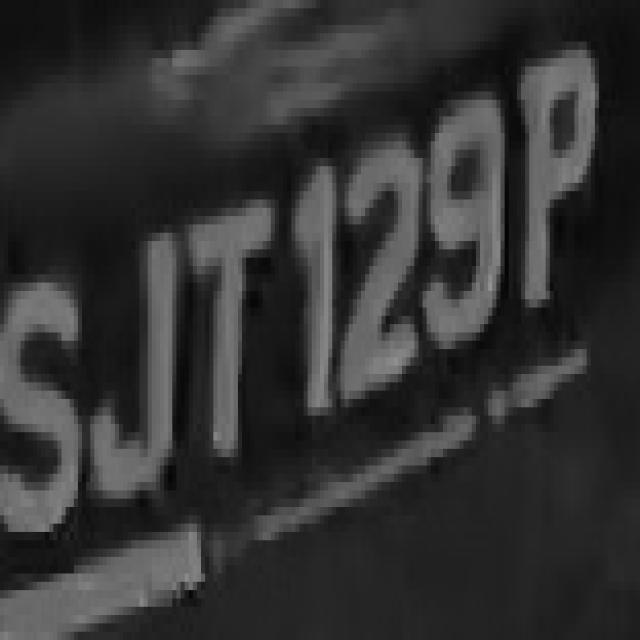1: (287, 133, 349, 449)
2: (337, 108, 422, 432)
9: (410, 83, 525, 366)
J: (94, 200, 189, 516)
P: (517, 17, 607, 340)
S: (4, 224, 94, 566)
T: (176, 175, 275, 507)
